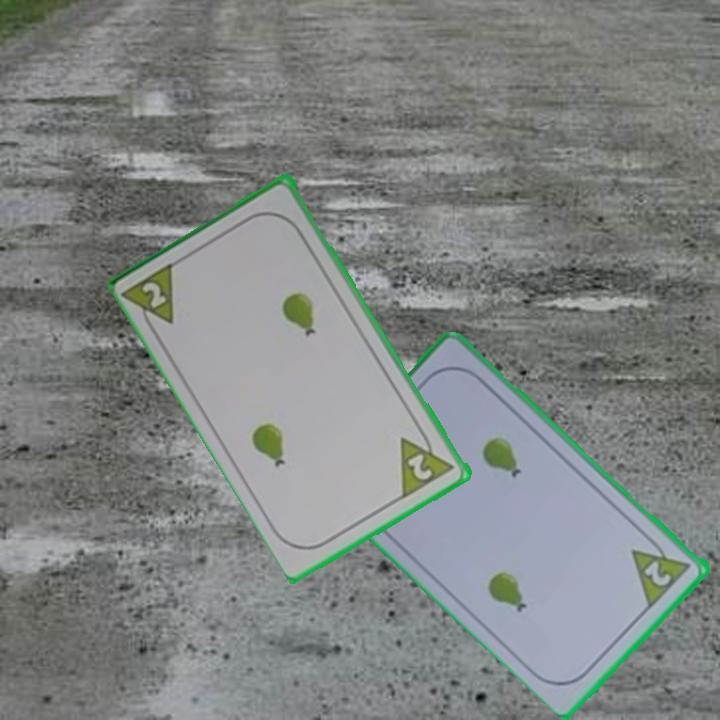2p: (121, 257, 181, 339), (396, 423, 458, 501), (641, 557, 675, 590)
